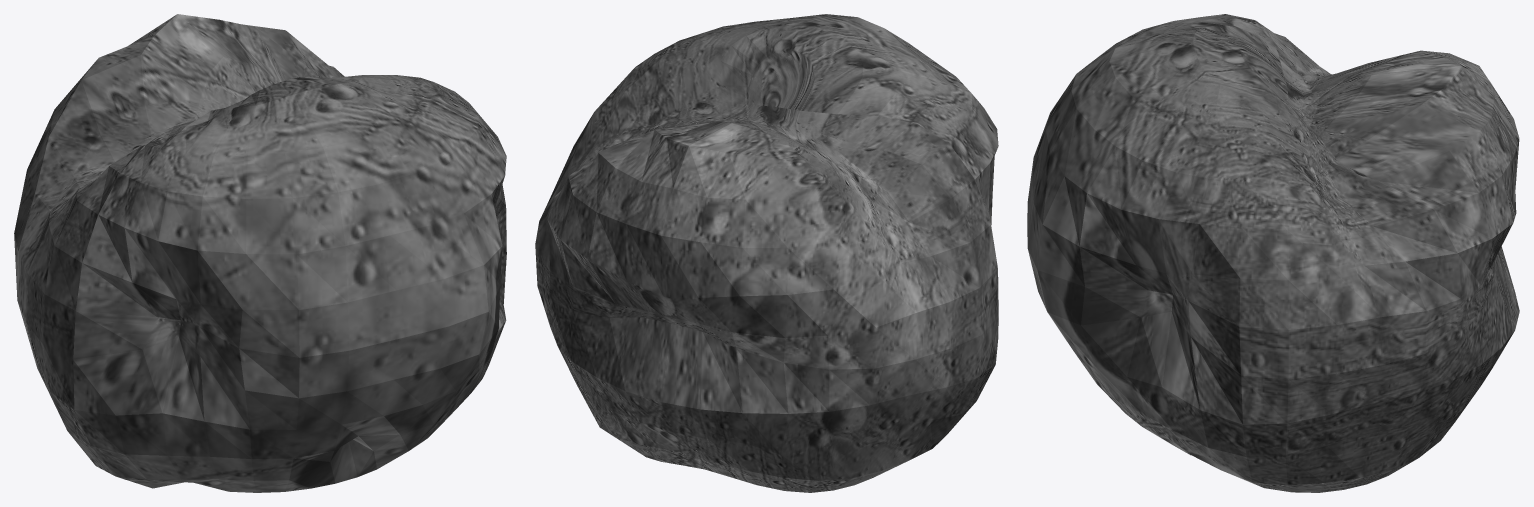
The model's file is asteroid.obj.
3 views of the same model, side by side, from view 1: azimuth 30°, elevation 25°; view 2: azimuth 150°, elevation 25°; view 3: azimuth 270°, elevation 25° (orthographic). The views are drawn at different scales.
Visible parts, largest first — view 1: Cube; view 2: Cube; view 3: Cube.
Part boxes in pixels (left/top/right/bottom): Cube: left=14, top=14, right=506, bottom=492; Cube: left=535, top=14, right=998, bottom=492; Cube: left=1027, top=14, right=1519, bottom=492.
Size of the model in its own units: 2.01 by 1.75 by 1.97.
Materials: 1 (1 with a texture image).
